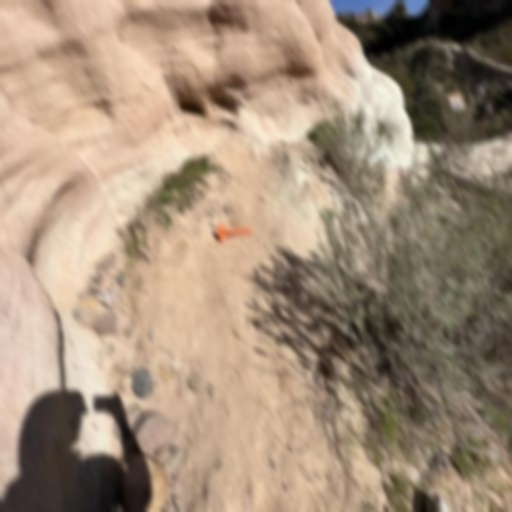mallet: (214, 220, 254, 244)
